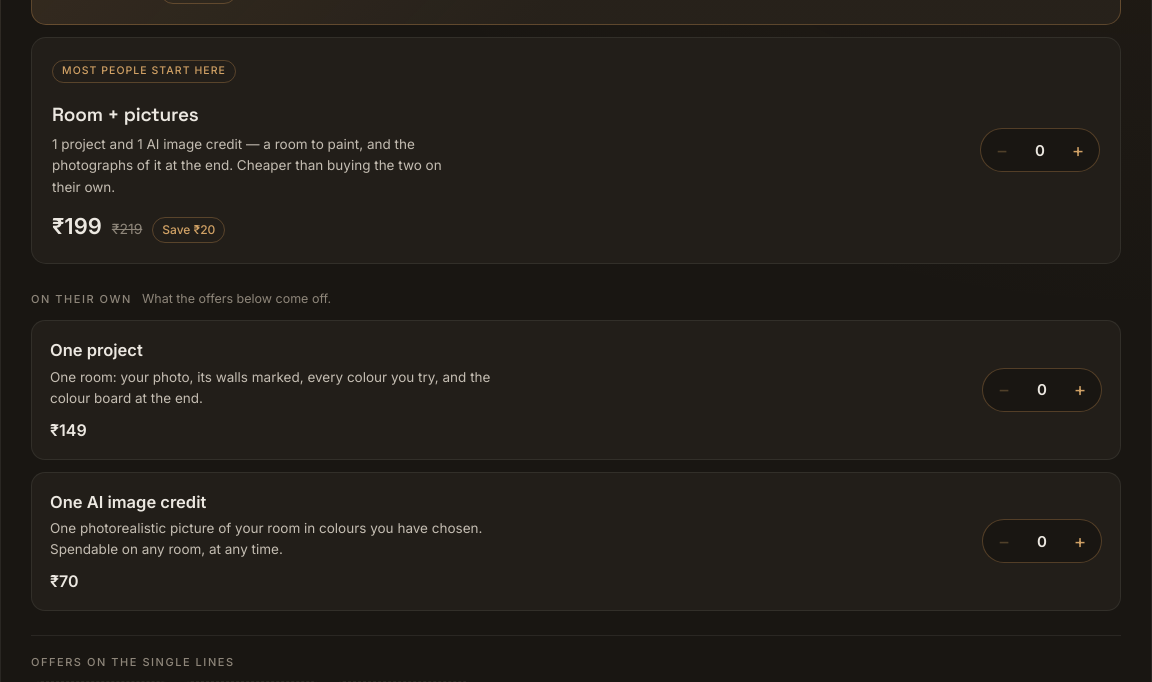
Test: CreditsCart › says what is still needed to reach the next offer
(page scrolled)
Click the button named "One more One project".
click(1080, 390)  # box [1059,369,1101,411]
(page scrolled)
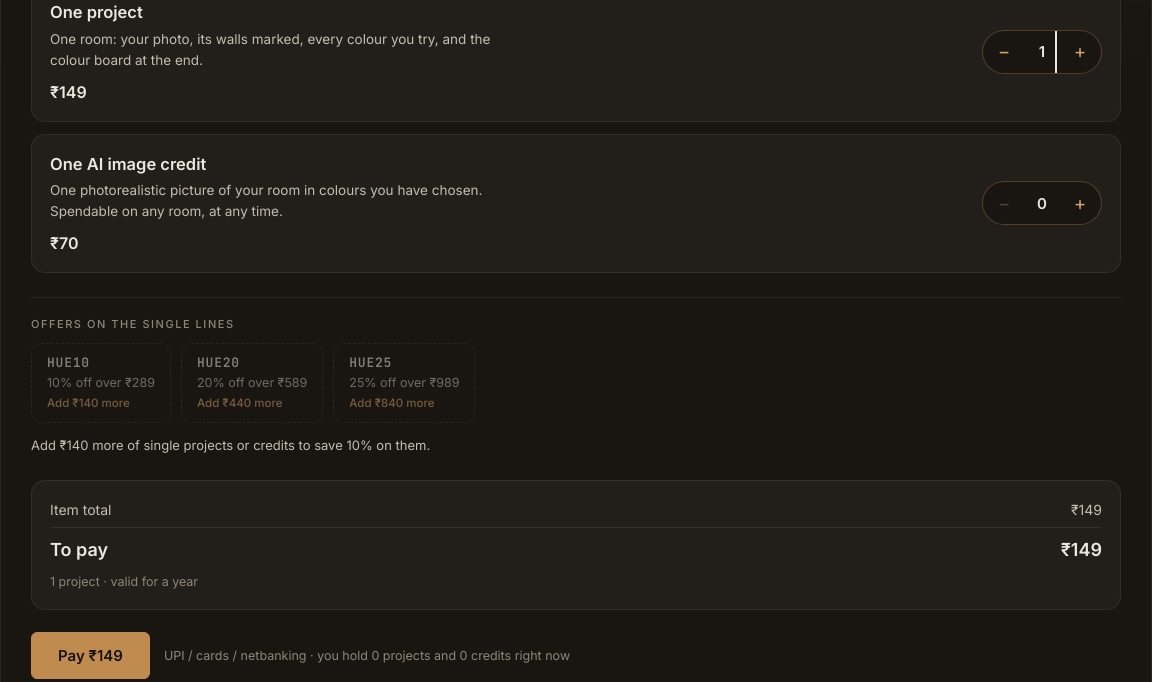
Now the text "Add ₹140 more of single projects or credits to save 10%" is shown, box [31,437,430,453]
